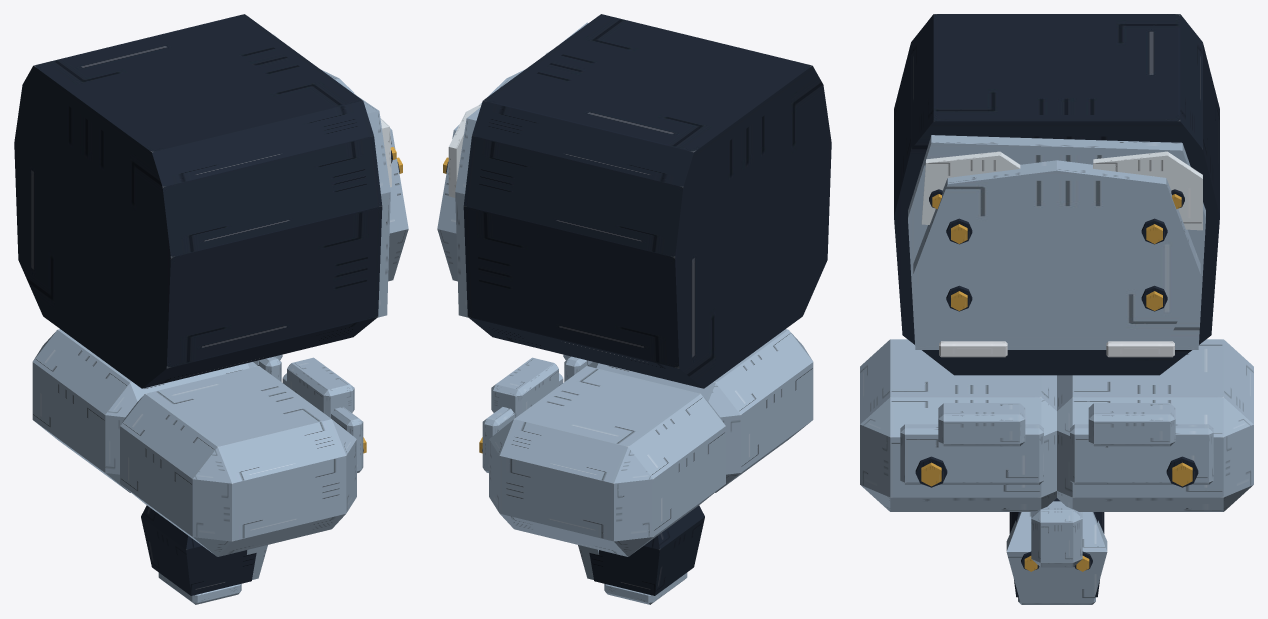
The model's file is heavy.glb.
3 renders of one model, left to right at view 1: azimuth 30°, elevation 25°; view 2: azimuth 150°, elevation 25°; view 3: azimuth 270°, elevation 25°, orthographic. The views are drawn at different scales.
Visible parts, largest first — view 1: chest, arm_R, arm_L, forearm_L, hips; view 2: chest, arm_L, arm_R, forearm_L, hips; view 3: chest, arm_L, arm_R, hips, forearm_L.
Part boxes in pixels (left/top/right/bottom): chest: left=14, top=14, right=408, bottom=388; arm_R: left=120, top=366, right=366, bottom=556; arm_L: left=32, top=329, right=281, bottom=492; forearm_L: left=141, top=505, right=267, bottom=604; hips: left=253, top=354, right=354, bottom=417; chest: left=437, top=14, right=831, bottom=388; arm_L: left=479, top=366, right=725, bottom=556; arm_R: left=564, top=329, right=813, bottom=492; forearm_L: left=578, top=505, right=704, bottom=604; hips: left=491, top=354, right=592, bottom=417; chest: left=894, top=14, right=1219, bottom=375; arm_L: left=1031, top=339, right=1253, bottom=567; arm_R: left=860, top=339, right=1056, bottom=511; hips: left=938, top=403, right=1175, bottom=446; forearm_L: left=1006, top=498, right=1107, bottom=604.
Bounding box in the file's own units: 0.291 × 0.5405 × 0.367.
Materials: 5 (5 with a texture image).
